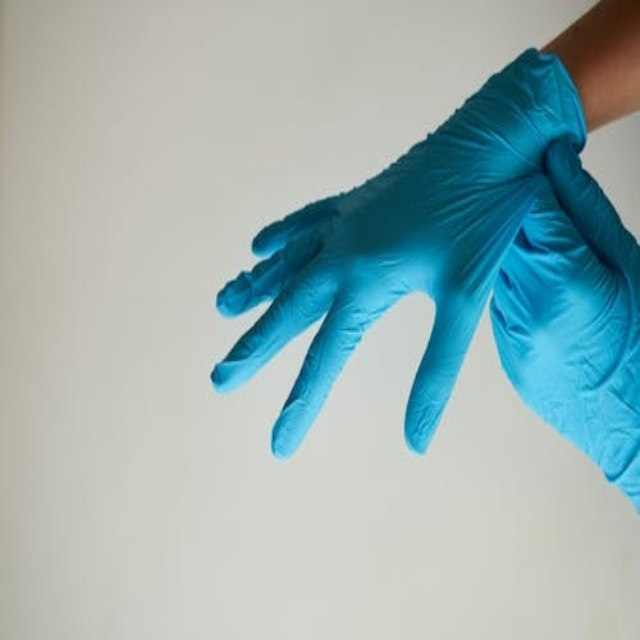Guantes: (213, 47, 587, 472), (485, 133, 635, 509)
